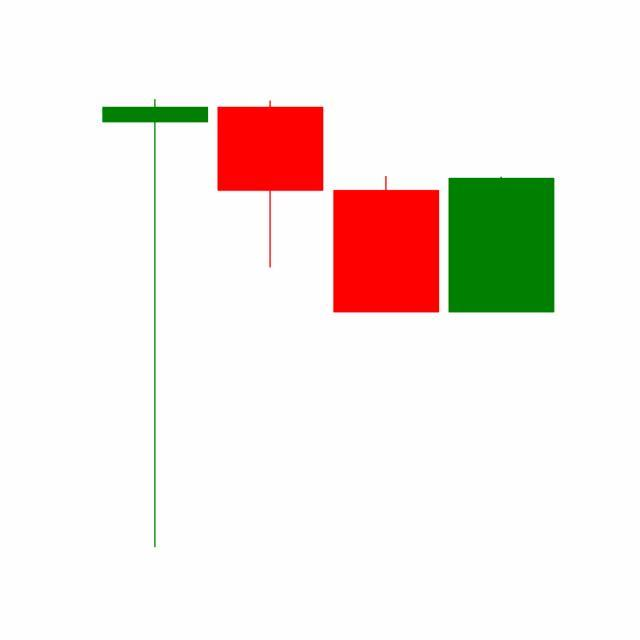Marubozu: (444, 175, 560, 314)
